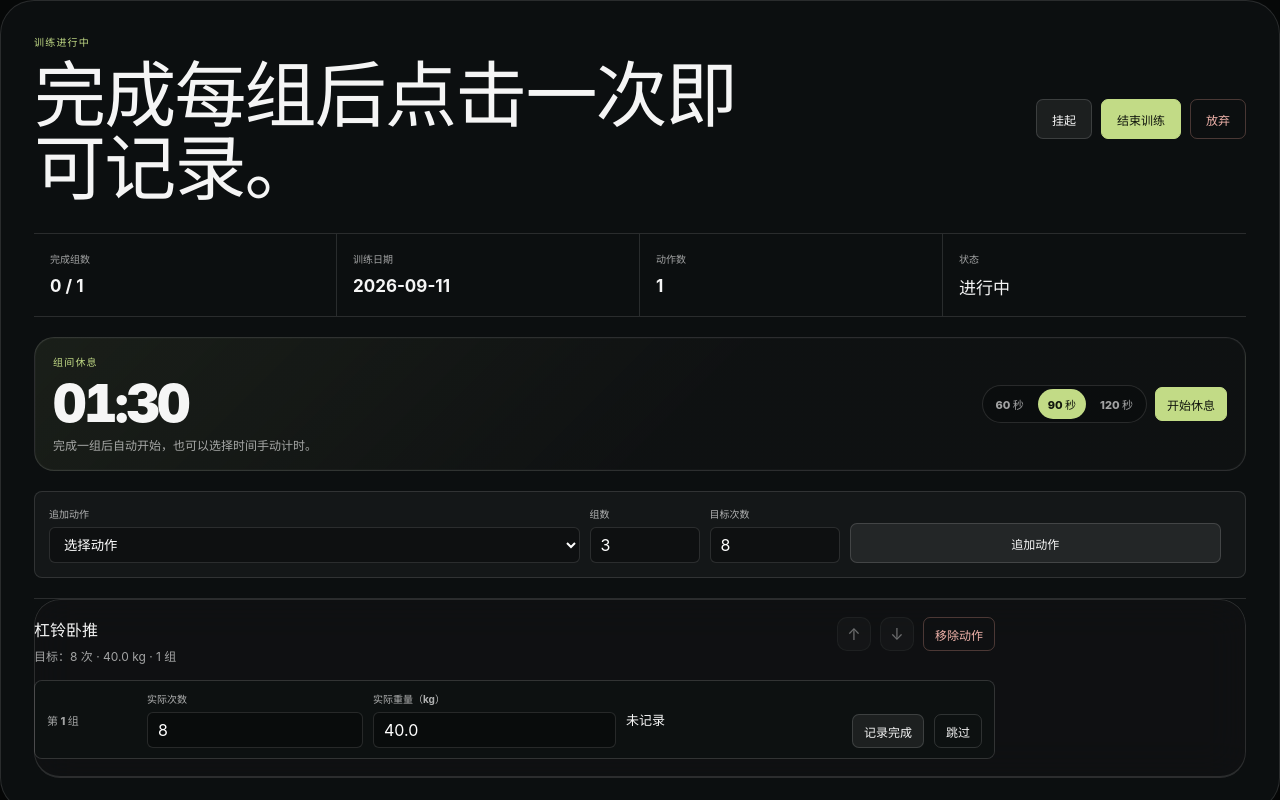
Test: TrainingPanel rest timer › starts automatically after recording a set and can add time
Click the button "记录完成" at (888, 731), box [852, 714, 924, 748]
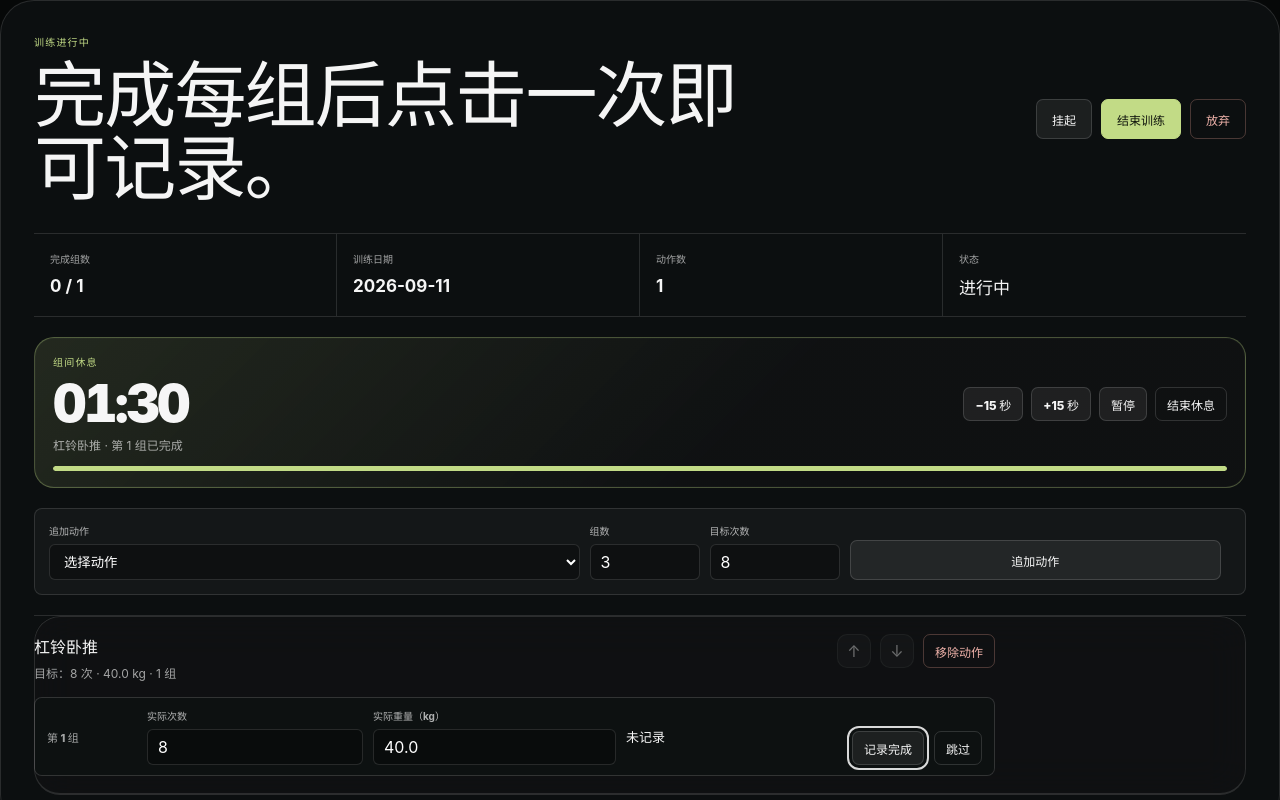
Check: the text "01:30" is shown, box [53, 378, 188, 430]
Check: the text "杠铃卧推 · 第 1 组已完成" is shown, box [53, 437, 188, 454]
Click the button "+15 秒" at (1061, 404), box [1031, 387, 1091, 421]
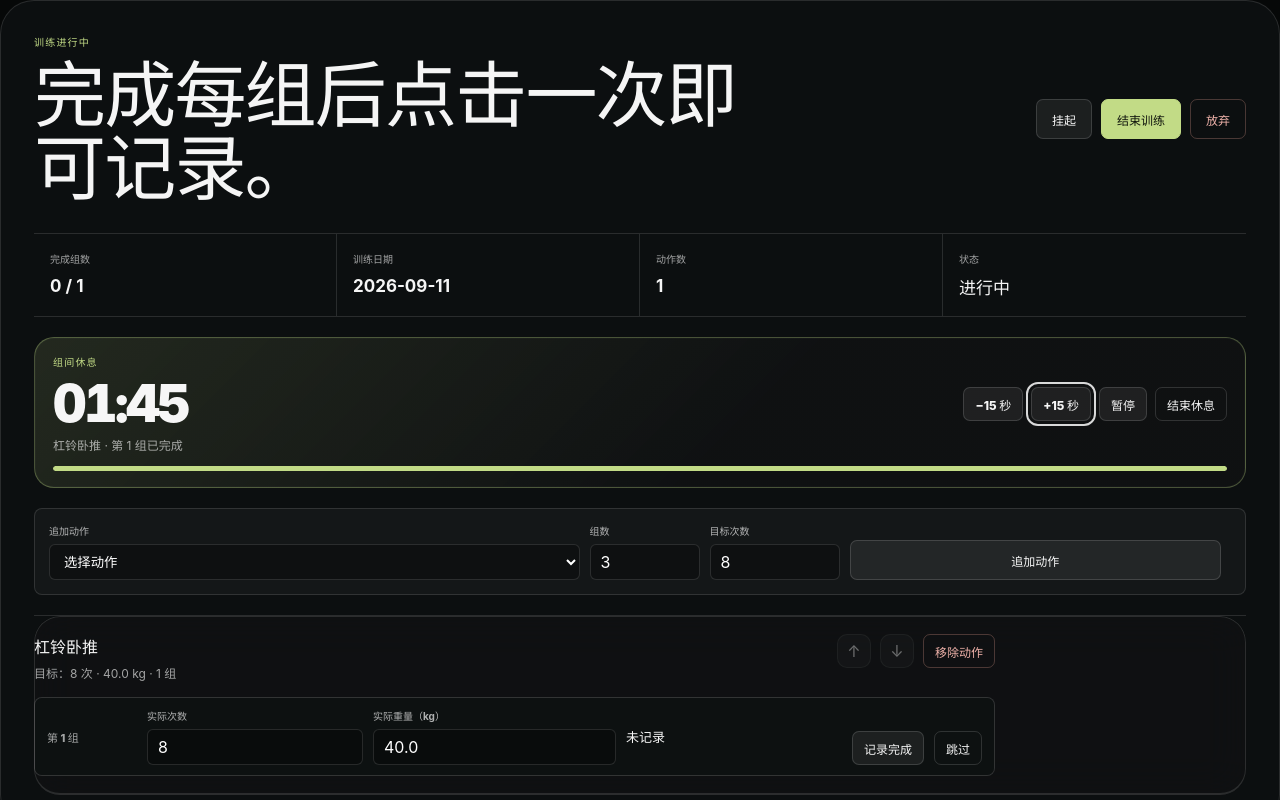
Check: the text "01:45" is shown, box [53, 378, 188, 430]
